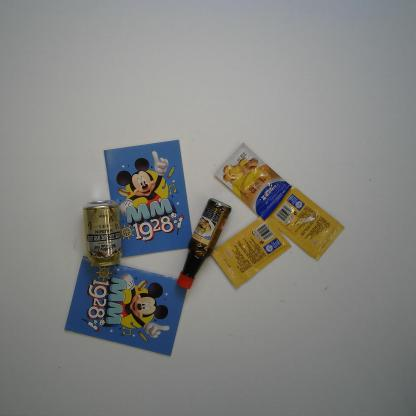Alcohol: (82, 199, 123, 268)
Seasoner: (214, 142, 292, 222), (268, 184, 345, 262), (211, 217, 292, 288), (175, 198, 232, 290)
Stationery: (64, 256, 188, 357), (103, 138, 194, 258)
